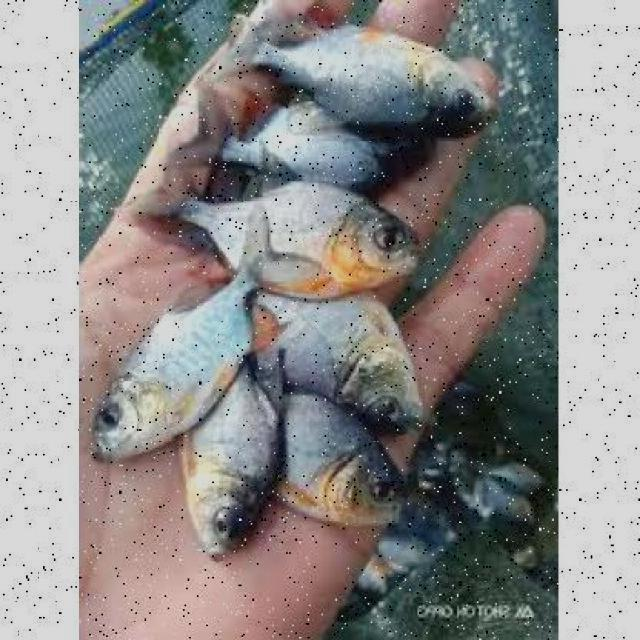ikan-pacu: (90, 276, 266, 453), (243, 31, 499, 140), (194, 180, 412, 300), (291, 394, 417, 532), (185, 372, 283, 548)
